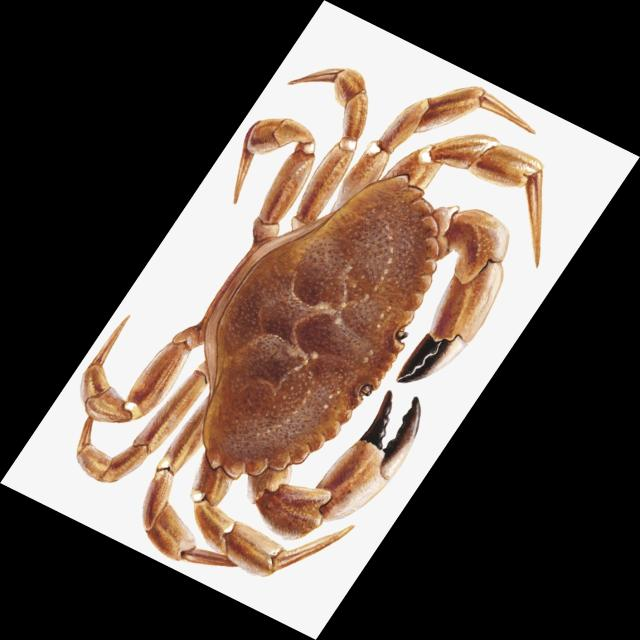Native Jonah crab: (77, 67, 543, 576)
